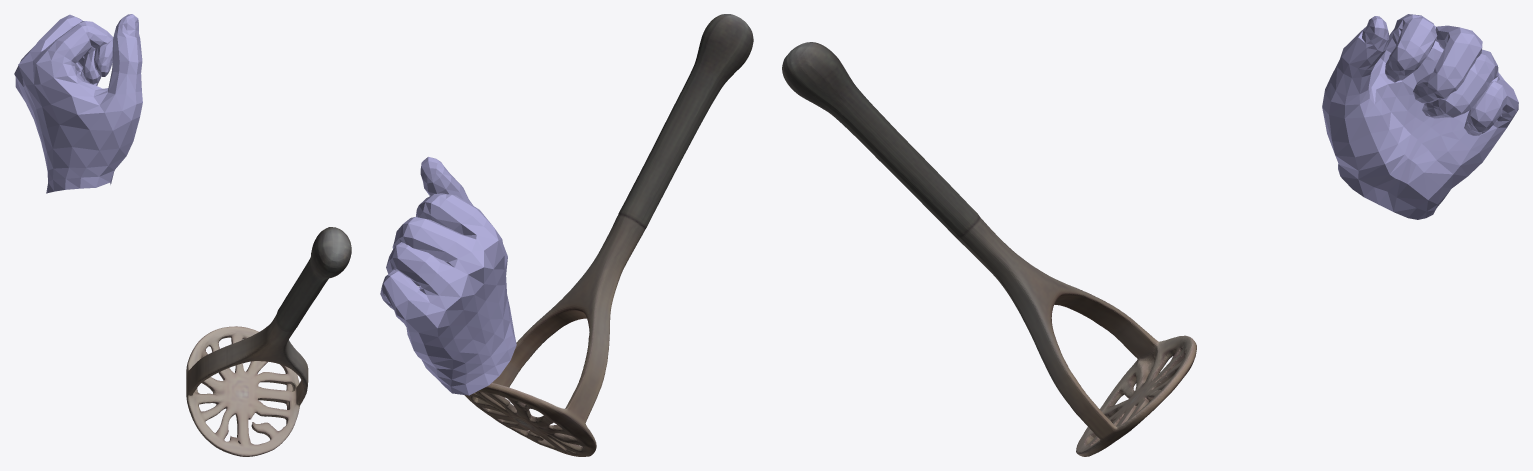
Rendered from frame_0031_source_000031_hand_object.glb.
3 renders of one model, left to right at view 1: azimuth 30°, elevation 25°; view 2: azimuth 150°, elevation 25°; view 3: azimuth 270°, elevation 25°, orthographic. The views are drawn at different scales.
Parts seen in each view (by area): view 1: world; view 2: world; view 3: world.
Part boxes in pixels (x1=…): world: x1=14, y1=14, x2=351, y2=456; world: x1=380, y1=14, x2=753, y2=456; world: x1=782, y1=14, x2=1518, y2=456.
Size of the model in its own units: 0.1023 by 0.2371 by 0.3696.
